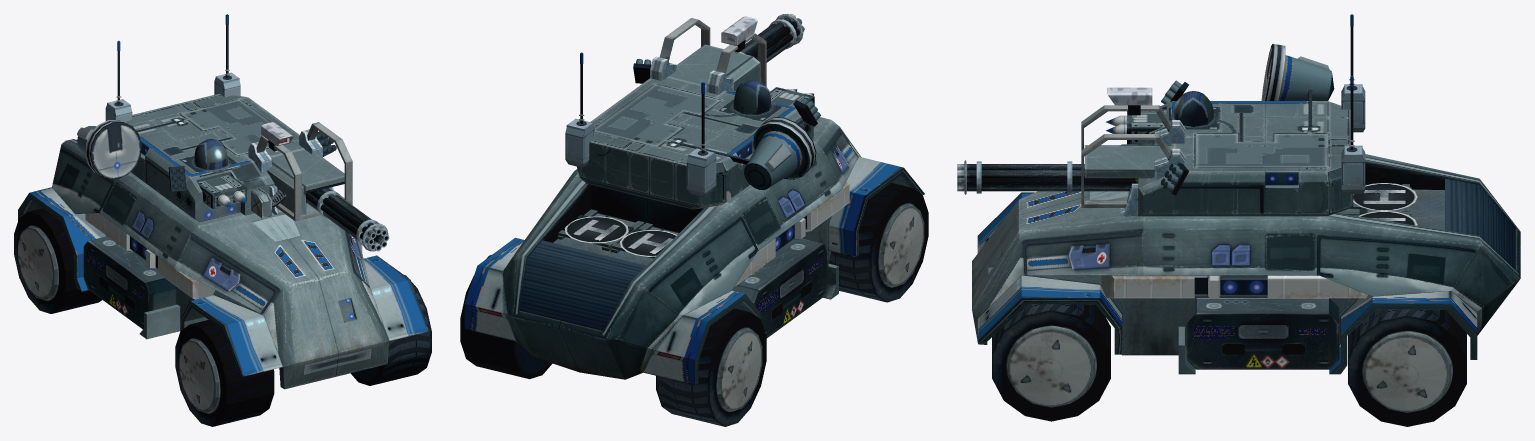
File: blue_tank_02_Ani.FBX
The picture shows the model from 3 angles, left to right: view 1: azimuth 30°, elevation 25°; view 2: azimuth 150°, elevation 25°; view 3: azimuth 270°, elevation 25°; orthographic projection. The views are drawn at different scales.
Parts seen in each view (by area): view 1: Body, gun_body, gun001, Wheel004, Wheel003, Wheel01; view 2: Body, gun_body, Wheel003, Wheel004, gun001, Wheel002; view 3: Body, gun_body, Wheel002, Wheel01, gun001.
Boxes of the visible parts, <box> form: Body: <box>18,139,429,389</box>; gun_body: <box>77,14,336,222</box>; gun001: <box>256,122,389,251</box>; Wheel004: <box>175,320,274,426</box>; Wheel003: <box>14,208,101,313</box>; Wheel01: <box>351,275,431,385</box>; Body: <box>464,117,924,384</box>; gun_body: <box>565,52,820,209</box>; Wheel003: <box>656,308,766,426</box>; Wheel004: <box>829,183,928,302</box>; gun001: <box>659,14,804,90</box>; Wheel002: <box>460,255,552,379</box>; Body: <box>972,154,1520,374</box>; gun_body: <box>1106,14,1365,216</box>; Wheel002: <box>1348,309,1466,426</box>; Wheel01: <box>992,304,1110,421</box>; gun001: <box>957,87,1172,207</box>.
Bounding box in the file's own units: 11.79 × 13.03 × 20.76.
